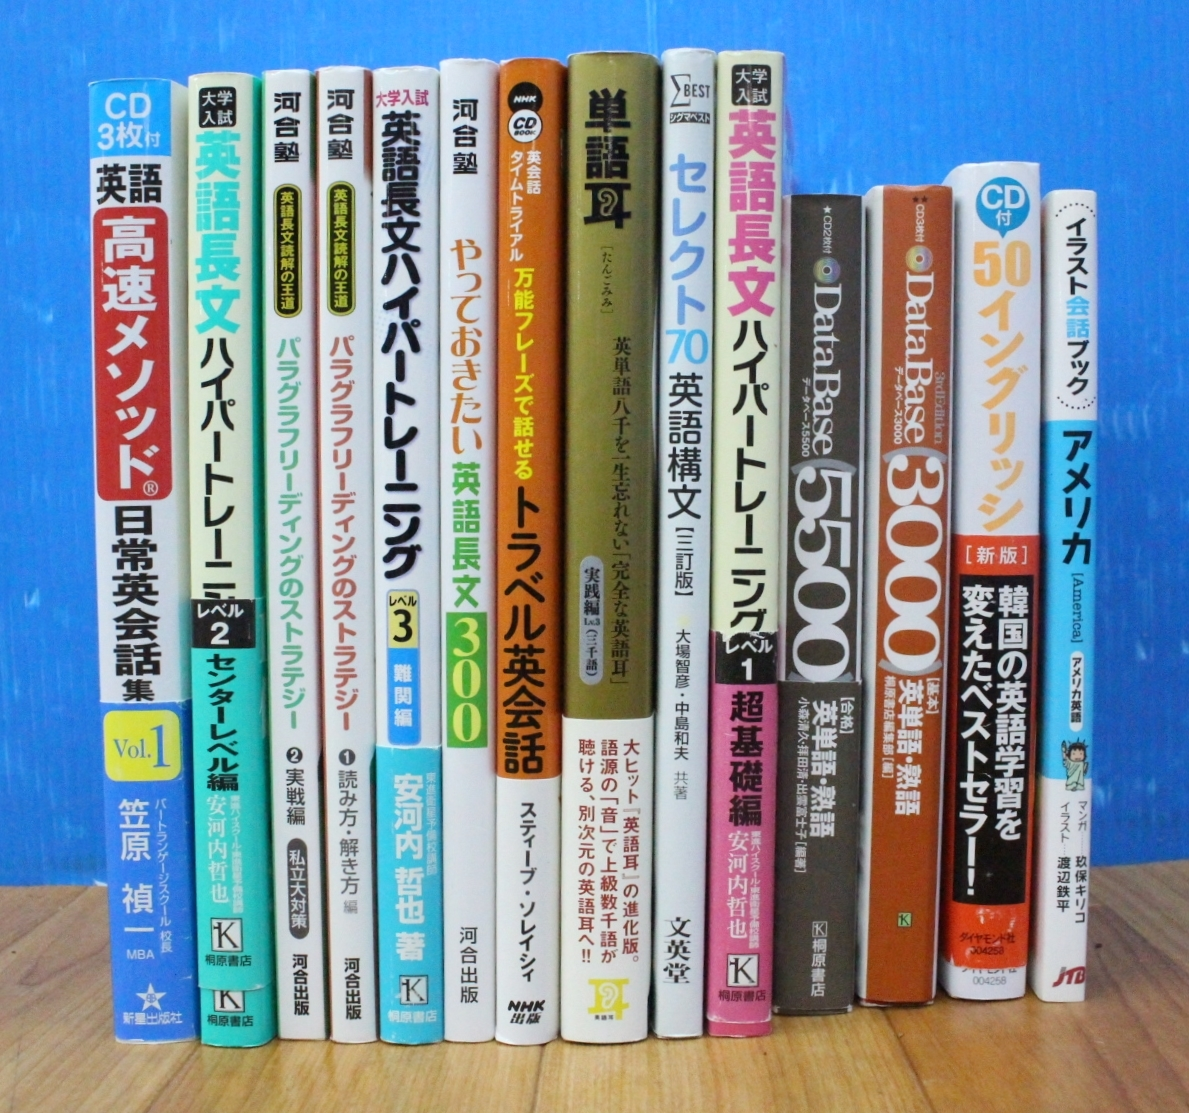book: (83, 69, 193, 1047), (561, 47, 661, 1049), (183, 58, 275, 1059), (940, 155, 1046, 1004), (361, 58, 450, 1047), (860, 180, 957, 1018), (704, 47, 785, 1033), (253, 65, 331, 1046), (306, 61, 382, 1054), (431, 54, 503, 1048), (785, 186, 869, 1000), (493, 53, 561, 1049), (1031, 180, 1106, 1010), (656, 43, 715, 1043)
